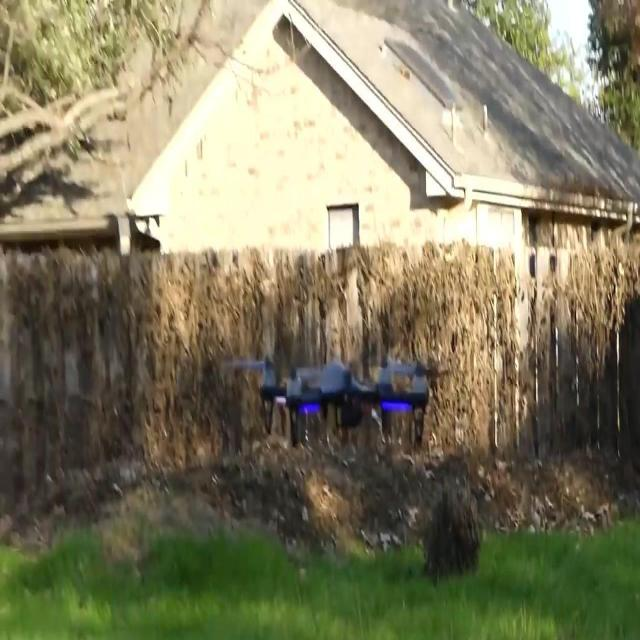UAV: (221, 355, 448, 448)
